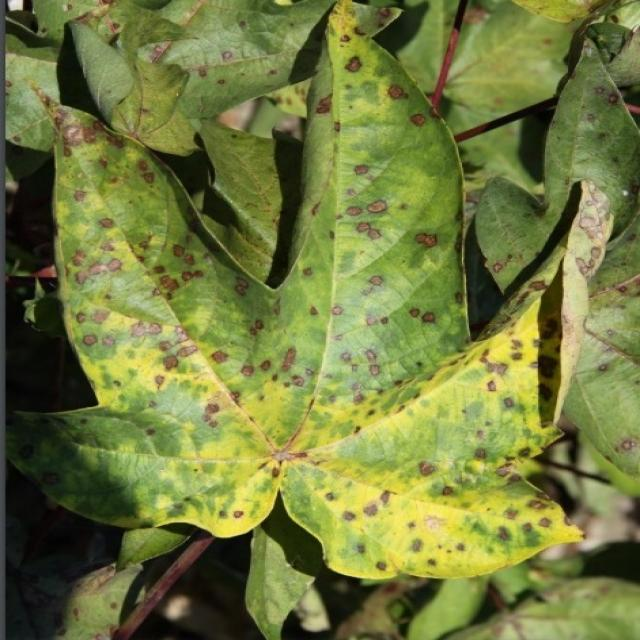Bacterial Blight: (74, 151, 473, 501)
